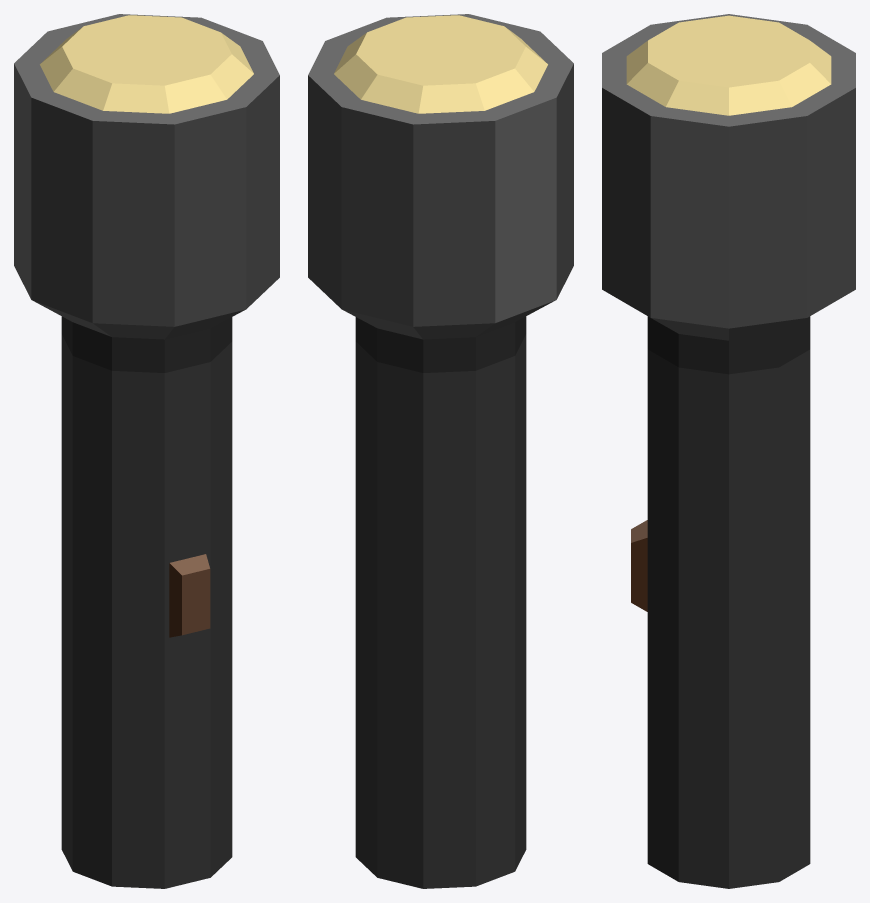
The model's file is Tool_Flashlight_01.fbx.
3 renders of one model, left to right at view 1: azimuth 30°, elevation 25°; view 2: azimuth 150°, elevation 25°; view 3: azimuth 270°, elevation 25°, orthographic.
Visible parts, largest first — view 1: Tool_Flashlight_01; view 2: Tool_Flashlight_01; view 3: Tool_Flashlight_01.
Part boxes in pixels (<box>): Tool_Flashlight_01: <box>14,14,279,888</box>; Tool_Flashlight_01: <box>308,14,573,888</box>; Tool_Flashlight_01: <box>602,14,855,888</box>.
Size of the model in its own units: 0.1008 by 0.334 by 0.0958.
